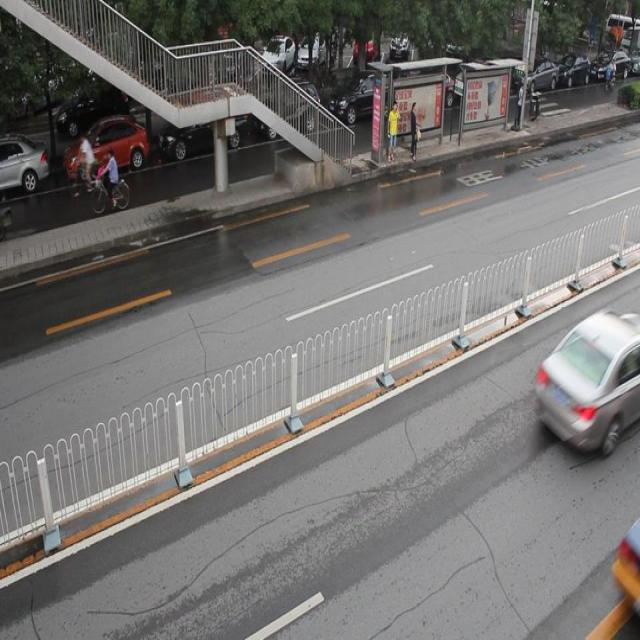car: (533, 307, 640, 455), (65, 113, 150, 177), (157, 107, 248, 166), (328, 72, 399, 130), (255, 79, 321, 140), (608, 509, 640, 617), (1, 137, 52, 196)
